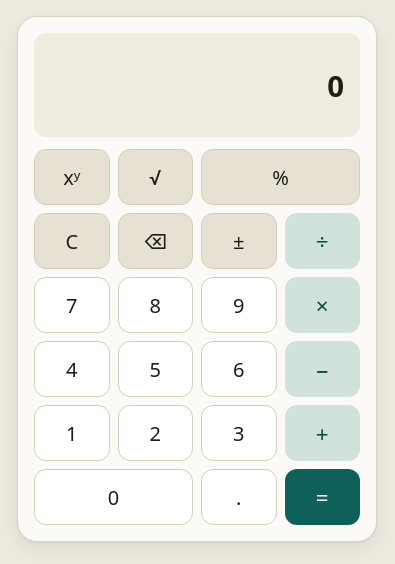
Scenario: Calculator: basic flows › chains 2 + 3 × 4 = as two requests in order and shows the final result
The width and height of the screenshot is (395, 564).
Step 1. Click the button "2" → (155, 433), box x1=118 y1=405 x2=193 y2=461
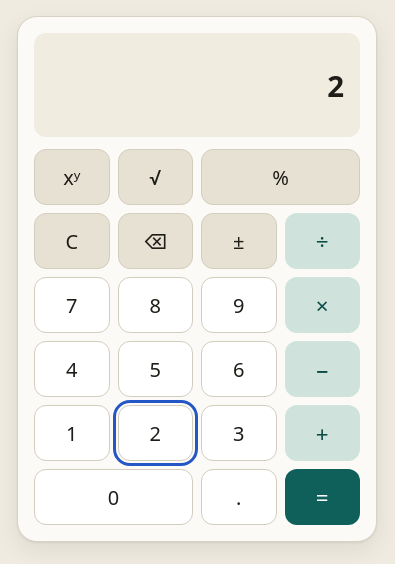
Step 2. Click the button named "add" → (322, 433), box x1=284 y1=405 x2=360 y2=461
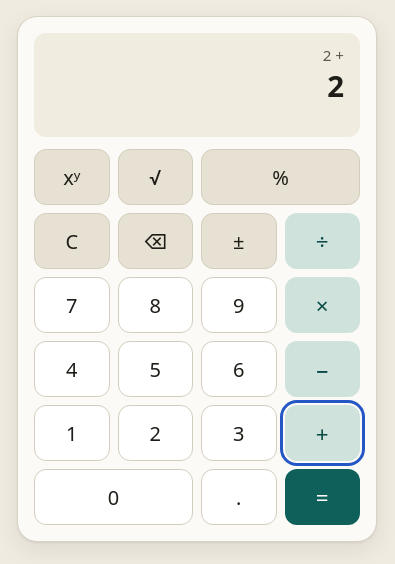
Step 3. Click the button "3" → (239, 433), box x1=201 y1=405 x2=276 y2=461
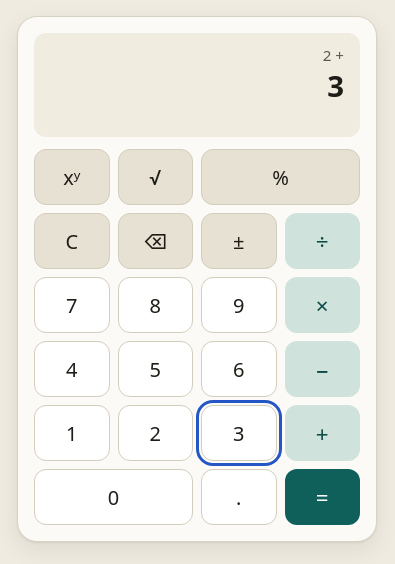
Step 4. Click the button named "multiply" → (322, 305), box x1=284 y1=277 x2=360 y2=333
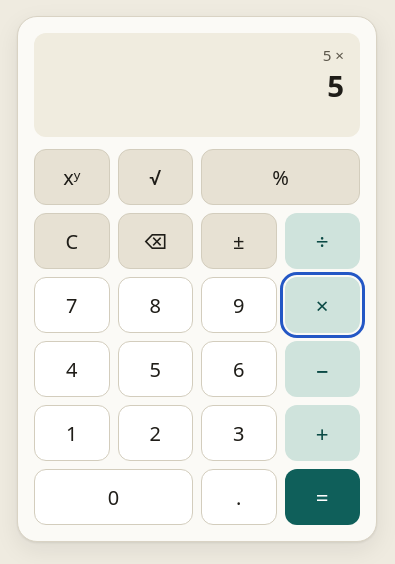
Now the message reads "5", box x1=327 y1=66 x2=344 y2=106
Step 5. Click the button "4" → (72, 369), box x1=34 y1=341 x2=110 y2=397
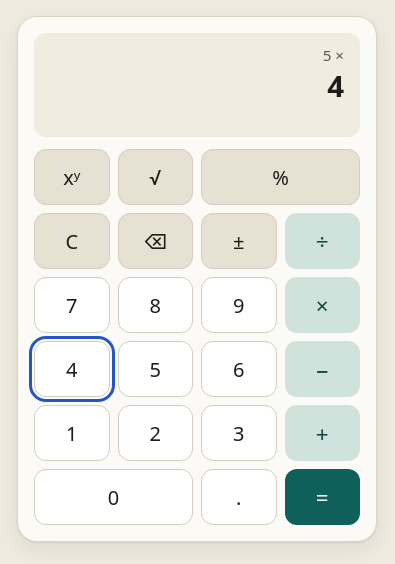
Step 6. Click the button named "equals" → (322, 497), box x1=284 y1=469 x2=360 y2=525
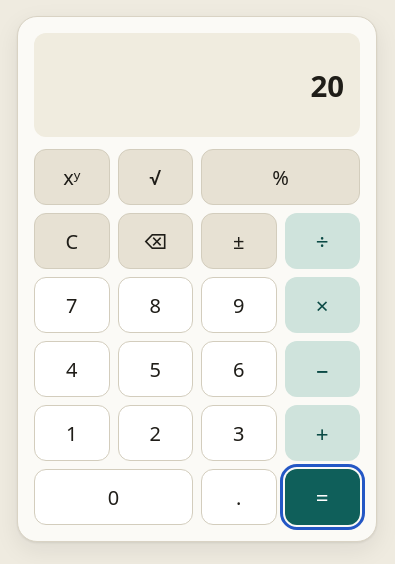
Now the message reads "20", box x1=310 y1=66 x2=344 y2=106
